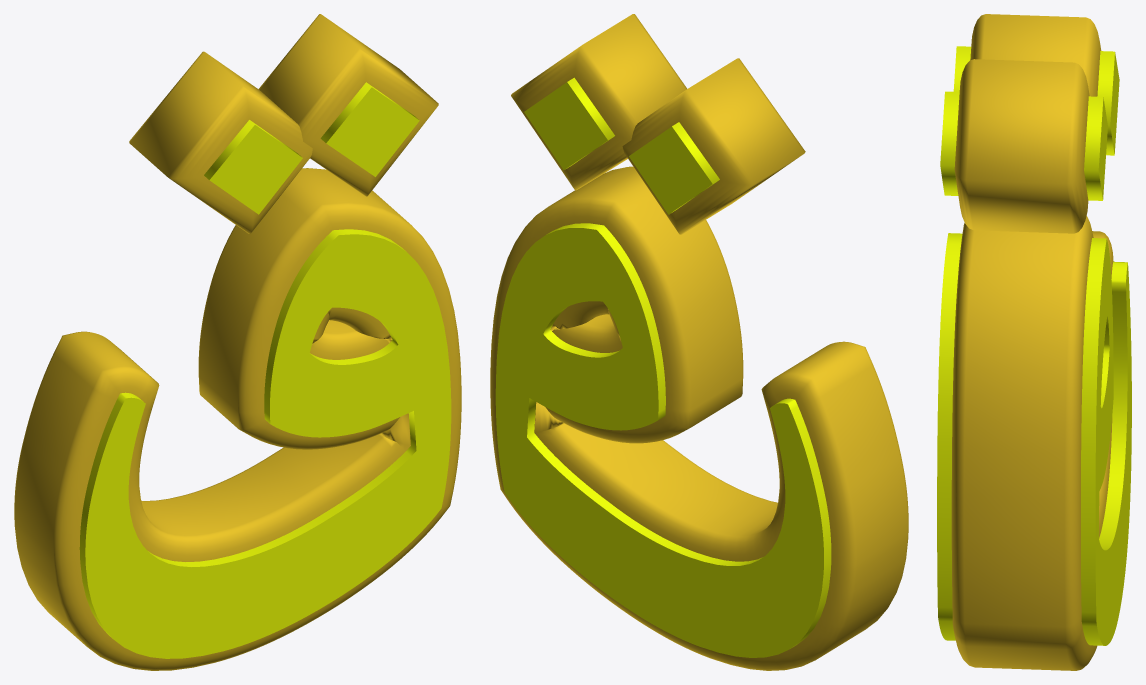
3 views of the same model, side by side, from view 1: azimuth 30°, elevation 25°; view 2: azimuth 150°, elevation 25°; view 3: azimuth 270°, elevation 25° (orthographic). The views are drawn at different scales.
Visible parts, largest first — view 1: text 2, Text; view 2: text 2, Text; view 3: text 2, Text.
Boxes of the visible parts, box(x1,y1,x2,y2) form: text 2: box(14, 14, 461, 670); Text: box(79, 82, 451, 658); text 2: box(490, 14, 908, 670); Text: box(495, 77, 831, 657); text 2: box(951, 14, 1113, 670); Text: box(937, 46, 1131, 645).
Size of the model in its own units: 39.28 by 55.5 by 14.91.
